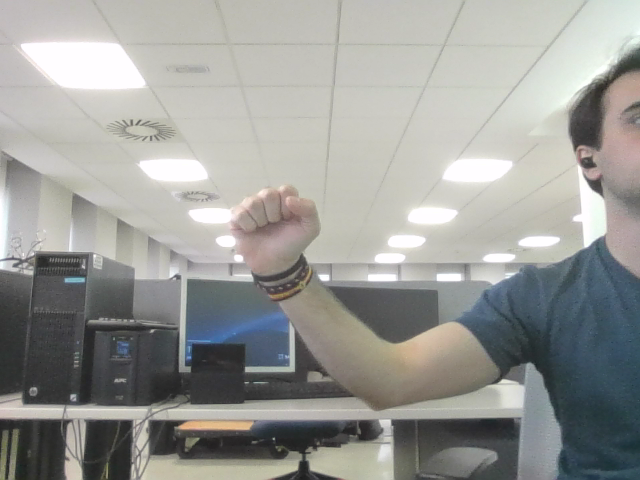Puño: (241, 192, 305, 249)
